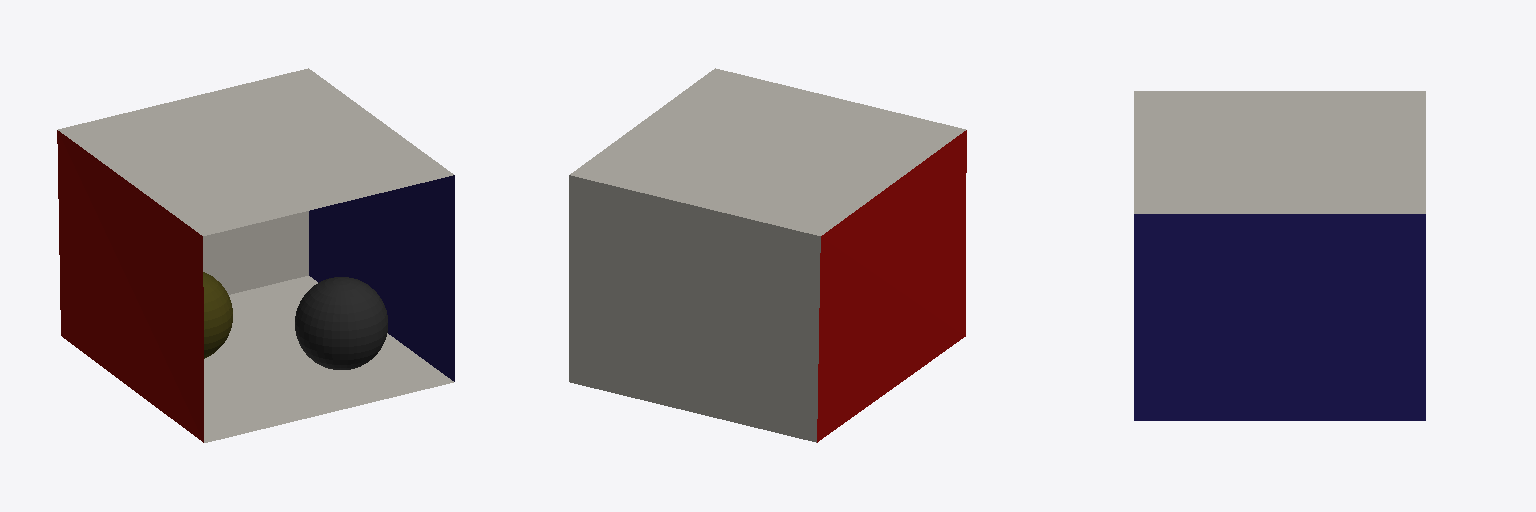
File: CornellBox-Phong.obj
3 renders of one model, left to right at view 1: azimuth 30°, elevation 25°; view 2: azimuth 150°, elevation 25°; view 3: azimuth 270°, elevation 25°, orthographic.
Parts seen in each view (by area): view 1: ceiling, leftWall, floor, rightWall, rightSphere, backWall, leftSphere; view 2: backWall, ceiling, leftWall; view 3: rightWall, ceiling.
Boxes of the visible parts, <box> form: ceiling: <box>58,68,453,235</box>; leftWall: <box>57,130,203,442</box>; floor: <box>204,276,453,442</box>; rightWall: <box>309,175,454,381</box>; rightSphere: <box>295,277,387,369</box>; backWall: <box>203,211,308,294</box>; leftSphere: <box>203,272,232,358</box>; backWall: <box>569,175,820,442</box>; ceiling: <box>570,68,965,235</box>; leftWall: <box>817,130,966,442</box>; rightWall: <box>1134,214,1425,420</box>; ceiling: <box>1134,91,1425,213</box>.
Size of the model in its own units: 2.02 by 1.59 by 2.03.